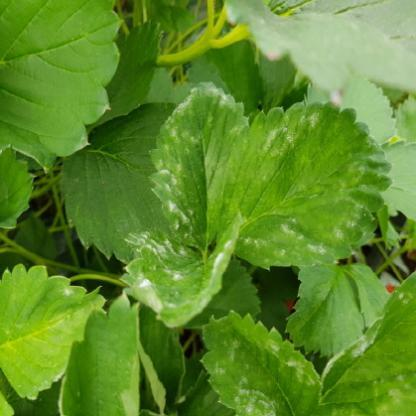Strawberry_Powdery_Mildew_Leaf: (217, 101, 394, 270), (146, 82, 247, 254), (316, 268, 416, 415), (0, 264, 107, 401), (119, 209, 242, 328), (200, 310, 323, 415)
